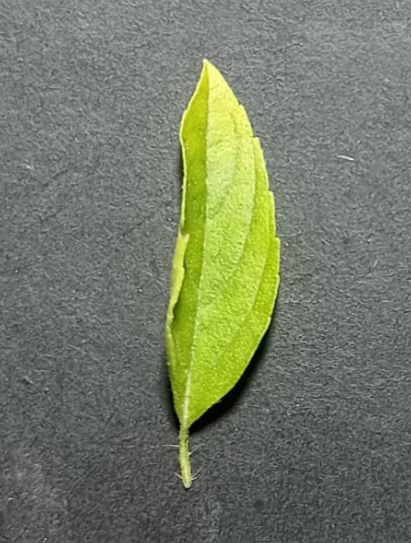Unhealthy: (161, 46, 286, 429)
